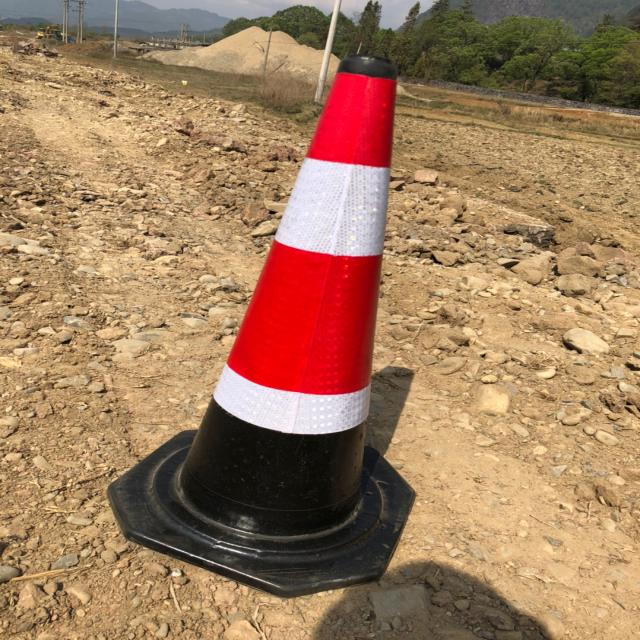reflective_cone: (105, 56, 421, 594)
